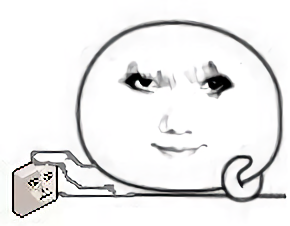dragon: (119, 59, 236, 158)
